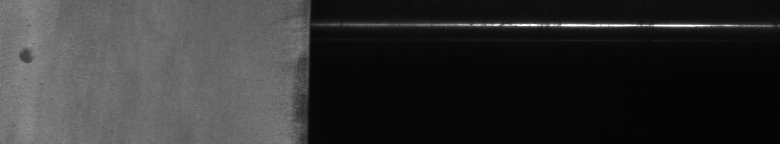fi: (14, 24, 43, 72)
